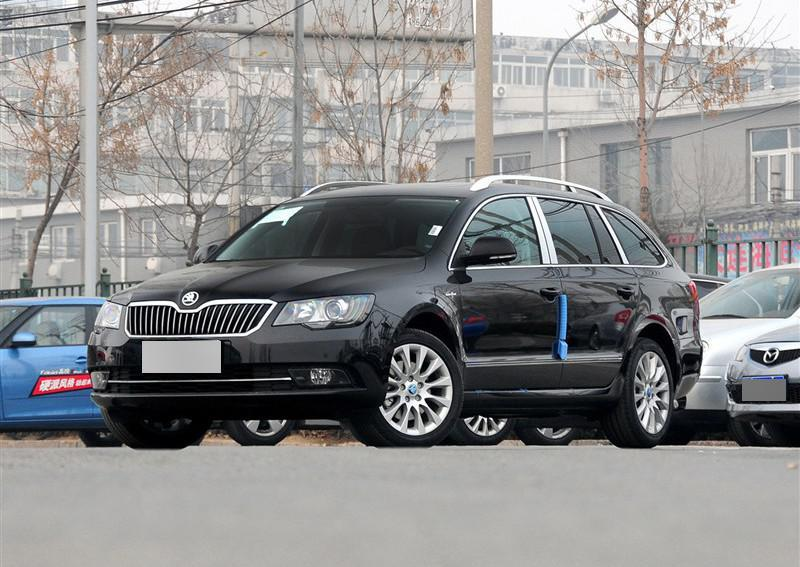Wagon: (86, 174, 704, 449)
